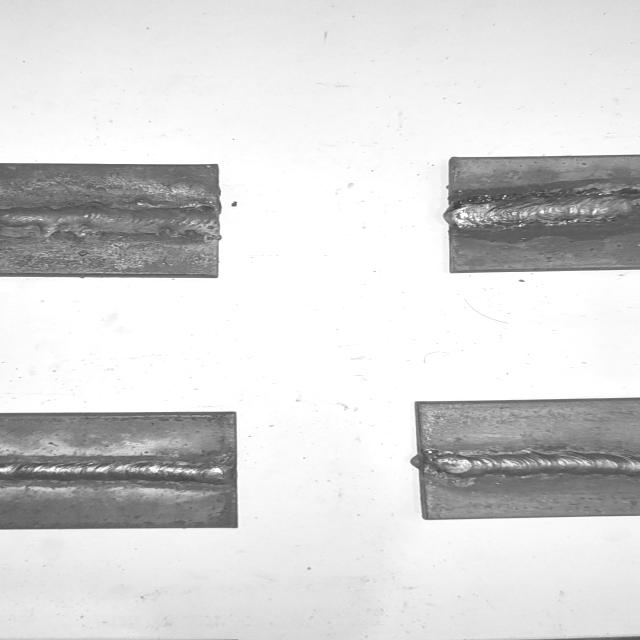Bad Weld: (0, 204, 217, 238)
Defect: (0, 196, 81, 245)
Good Weld: (451, 191, 640, 227), (424, 452, 640, 479), (0, 461, 235, 484)
